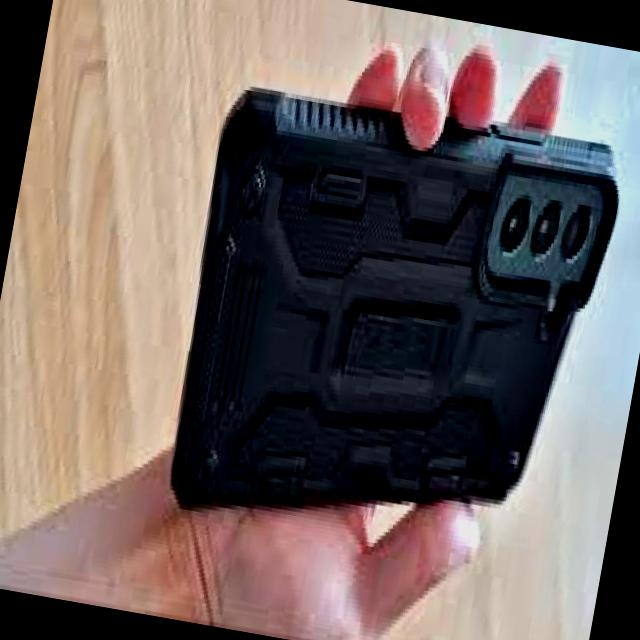lens_back: (515, 180, 574, 274), (484, 184, 546, 272), (553, 192, 597, 268)
